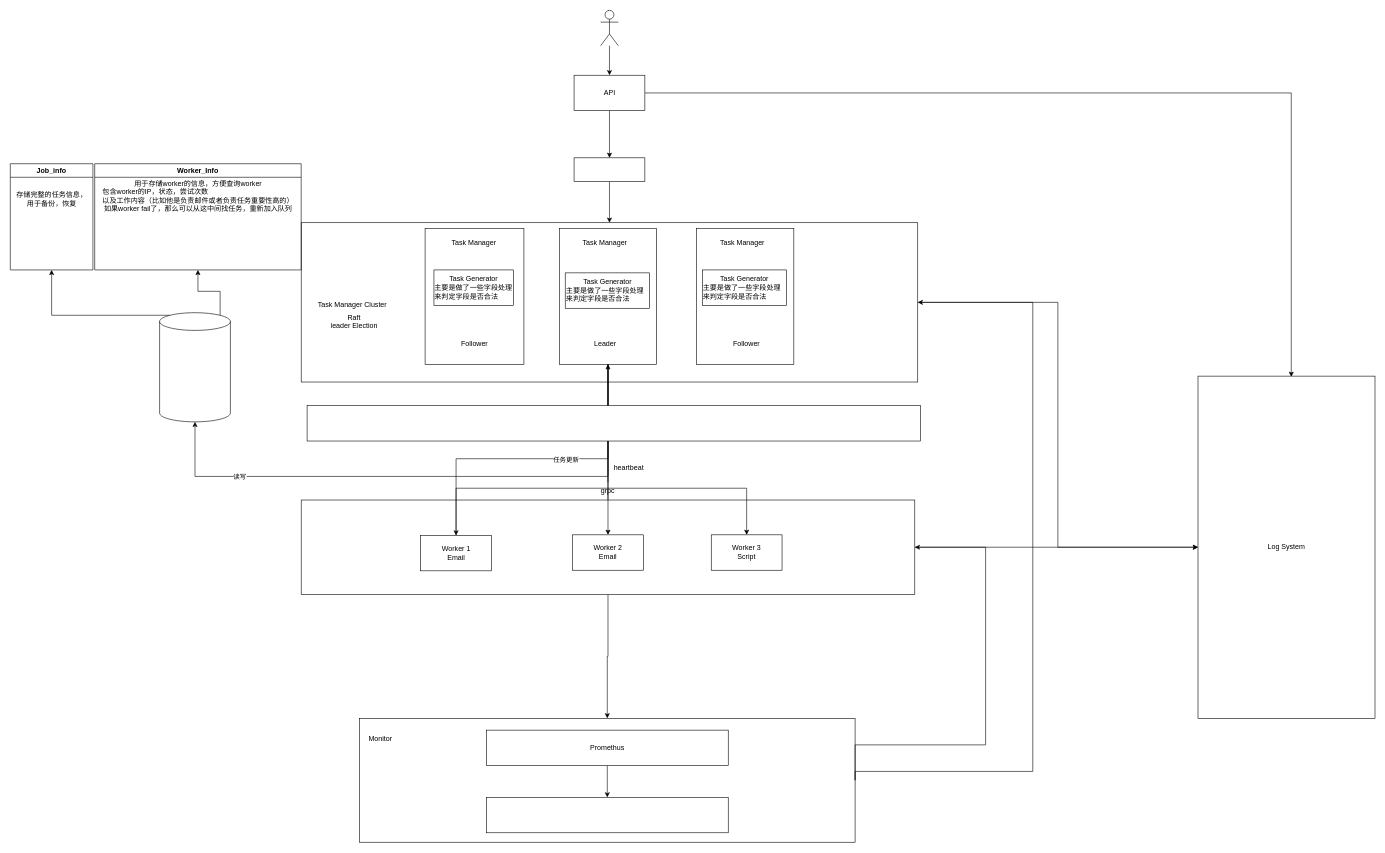
Image size: 1385x853. Some labels were removed from this diagram. Each missing label, with the centre of its shape:
Actor: pixel 609 28
DB Cluster: pixel 194 367
Grafana: pixel 607 815
Load Balancer: pixel 609 169
Redis contains a JobQueue: pixel 614 423
